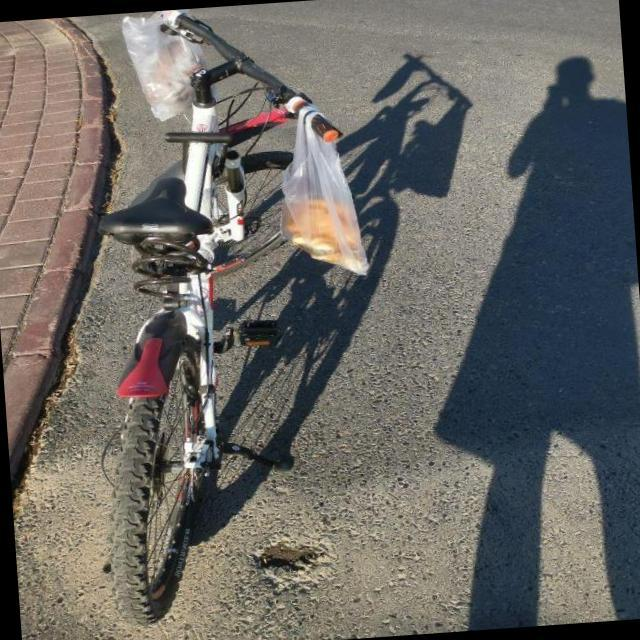Pothole: (251, 539, 326, 570)
